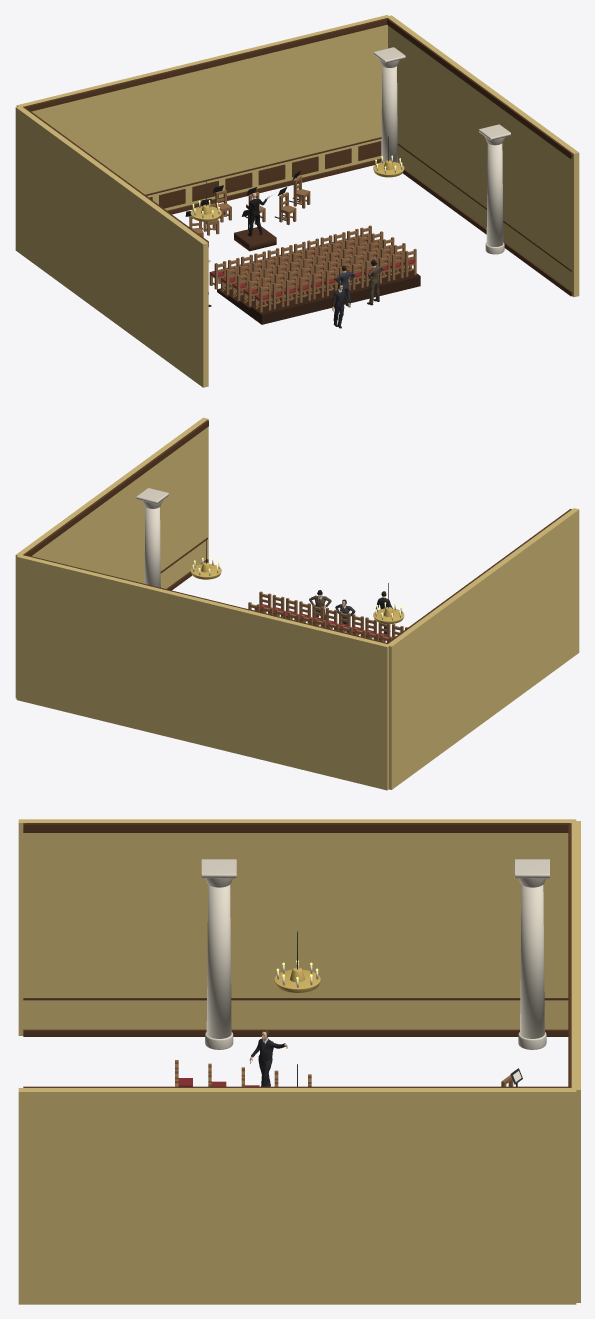
File: musikverein.glb
3 views of the same model, one above another, from view 1: azimuth 30°, elevation 25°; view 2: azimuth 150°, elevation 25°; view 3: azimuth 270°, elevation 25° (orthographic). The views are drawn at different scales.
Parts seen in each view (by area): view 1: wall_back, wall_left, wall_right, box.006, box.072, cyl.032, cyl.026, box.008, box, box.002, box.024, box.003; view 2: wall_back, wall_left, wall_right, box.008, cyl.032, box.006; view 3: wall_right, wall_left, box.007, box.001, wall_back, cyl.029, cyl.023, box.004, box.008, box.006, box.020, box.022 (+2 smaller).
Boxes of the visible parts, x1,y1,x2,y2 form: wall_back: (16,15,390,210); wall_left: (15,106,208,387); wall_right: (387,15,579,297); box.006: (23,18,387,111); box.072: (250,268,420,324); cyl.032: (486,143,503,246); cyl.026: (381,66,397,162); box.008: (387,18,572,158); box: (167,158,381,214); box.002: (403,169,572,296); box.024: (234,226,276,251); box.003: (145,137,381,195); wall_back: (16,554,389,790); wall_left: (386,508,579,789); wall_right: (15,417,208,698); box.008: (23,420,208,555); cyl.032: (144,507,160,587); box.006: (23,555,387,643); wall_right: (18,1088,576,1304); wall_left: (18,819,576,1035); box.007: (23,823,570,832); box.001: (23,1029,568,1036); wall_back: (571,821,580,1302); cyl.029: (206,885,231,1038); cyl.023: (520,884,544,1038); box.004: (23,998,568,1000); box.008: (23,1086,570,1087); box.006: (568,823,571,1087); box.020: (514,859,549,878); box.022: (201,859,236,878).
Size of what is drawn, in the model's own units: 16.48 by 6.01 by 14.48.
